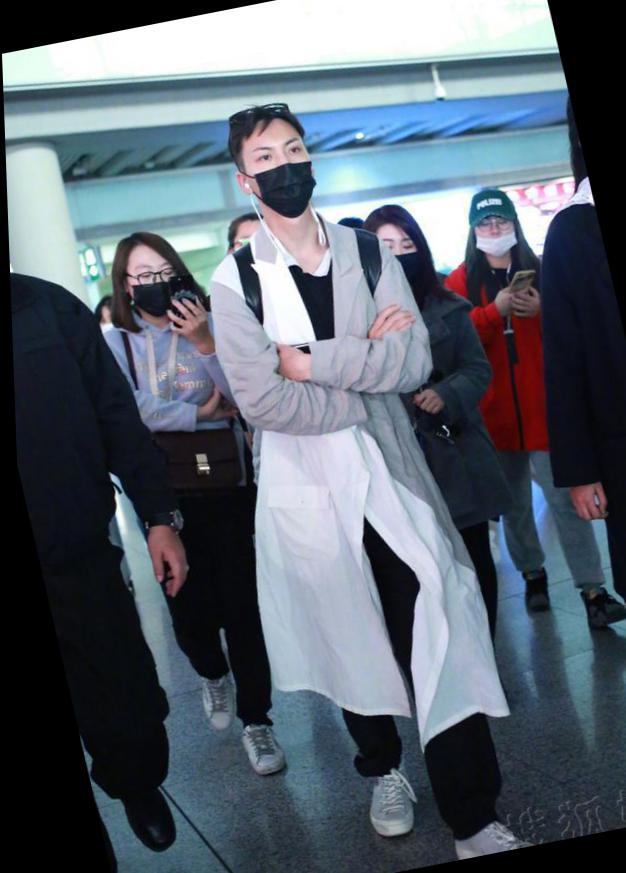OK: (230, 133, 316, 217), (118, 253, 188, 321), (364, 224, 433, 291)
WRONG: (466, 207, 523, 262)
